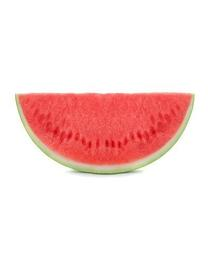watermelon: (14, 90, 195, 175)
